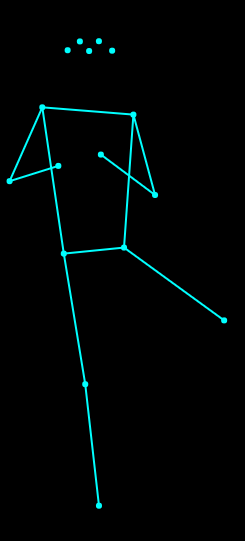tree: (4, 25, 236, 512)
